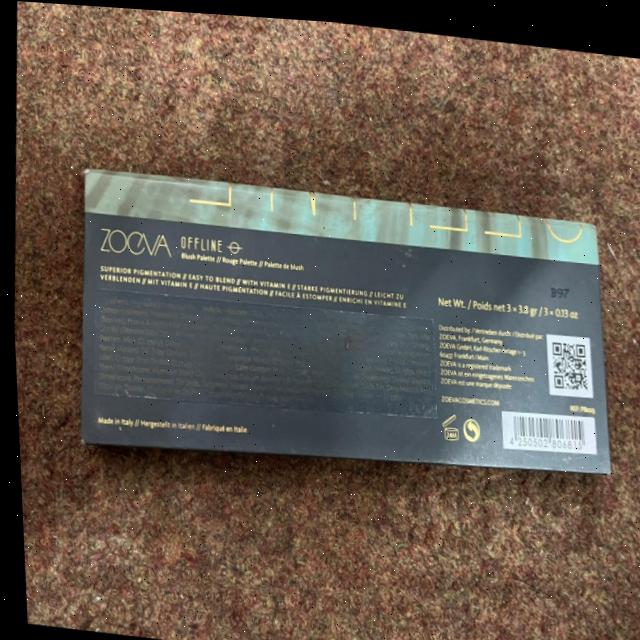makeup: (42, 112, 640, 563)
